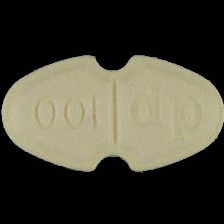54868-4176: (0, 0, 224, 224)
